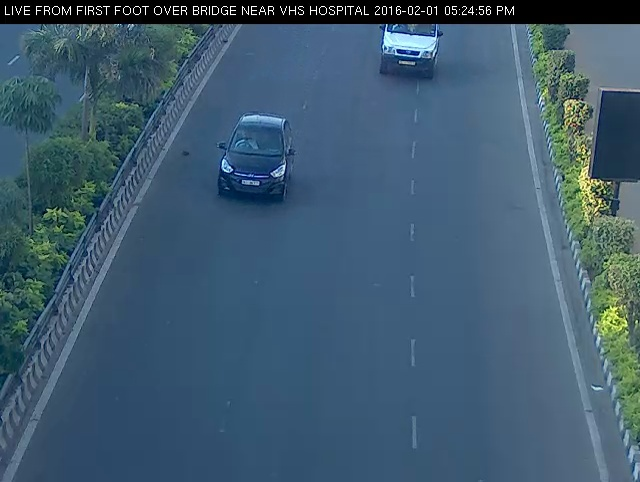Car: (206, 105, 300, 209), (372, 14, 447, 89)
